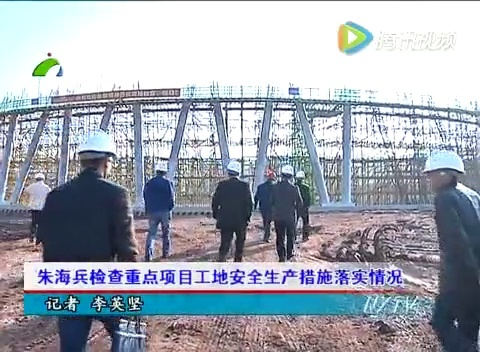red: (264, 169, 276, 183)
white: (425, 147, 464, 194), (75, 131, 114, 176), (224, 157, 242, 179), (280, 163, 294, 181), (154, 160, 167, 176), (294, 169, 306, 183), (34, 170, 45, 184)
